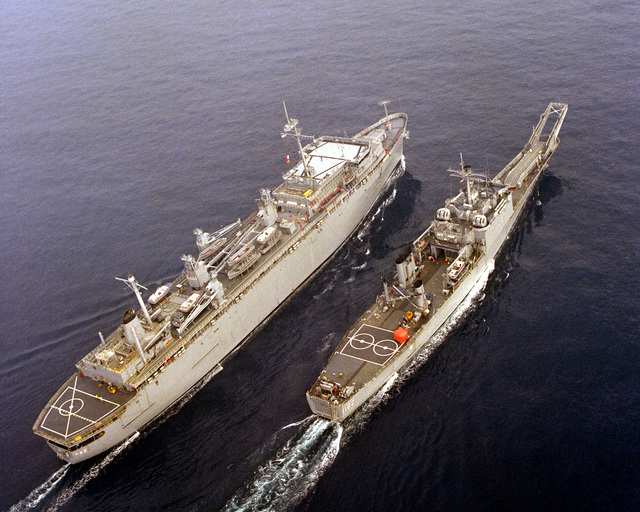ship: (20, 82, 412, 455), (298, 68, 584, 428)
